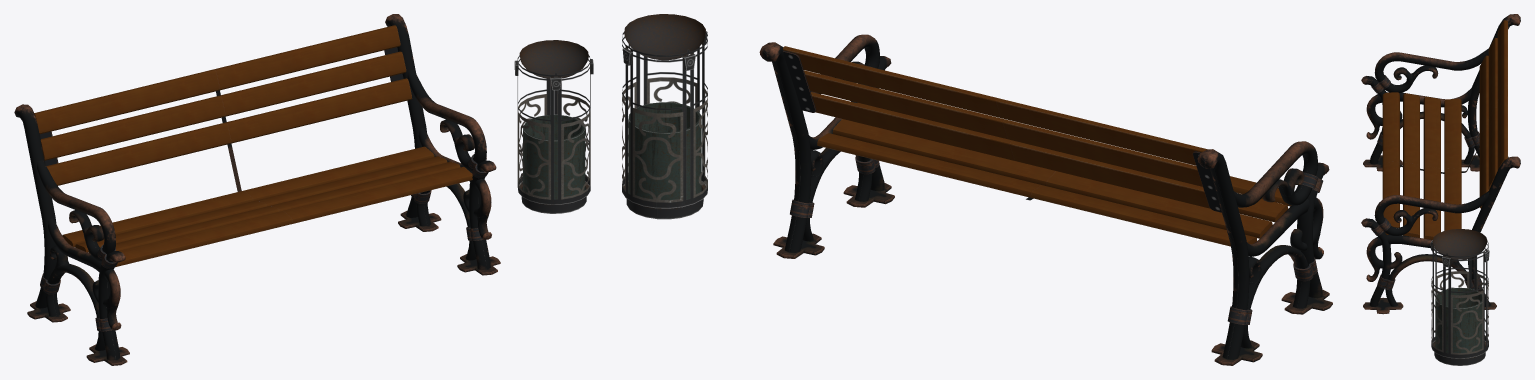
File: bench.glb
The picture shows the model from 3 angles, left to right: view 1: azimuth 30°, elevation 25°; view 2: azimuth 150°, elevation 25°; view 3: azimuth 270°, elevation 25°; orthographic projection. The views are drawn at different scales.
Parts seen in each view (by area): view 1: Object_2, Object_3; view 2: Object_2, Object_3; view 3: Object_2, Object_3.
Part boxes in pixels (<box>): Object_2: <box>14,14,500,365</box>; Object_3: <box>514,40,593,213</box>; Object_2: <box>759,34,1332,365</box>; Object_3: <box>622,14,707,219</box>; Object_2: <box>1361,14,1520,314</box>; Object_3: <box>1430,229,1489,365</box>.
Bounding box in the file's own units: 15.92 × 5.29 × 5.12.
2 materials, 2 textured.
